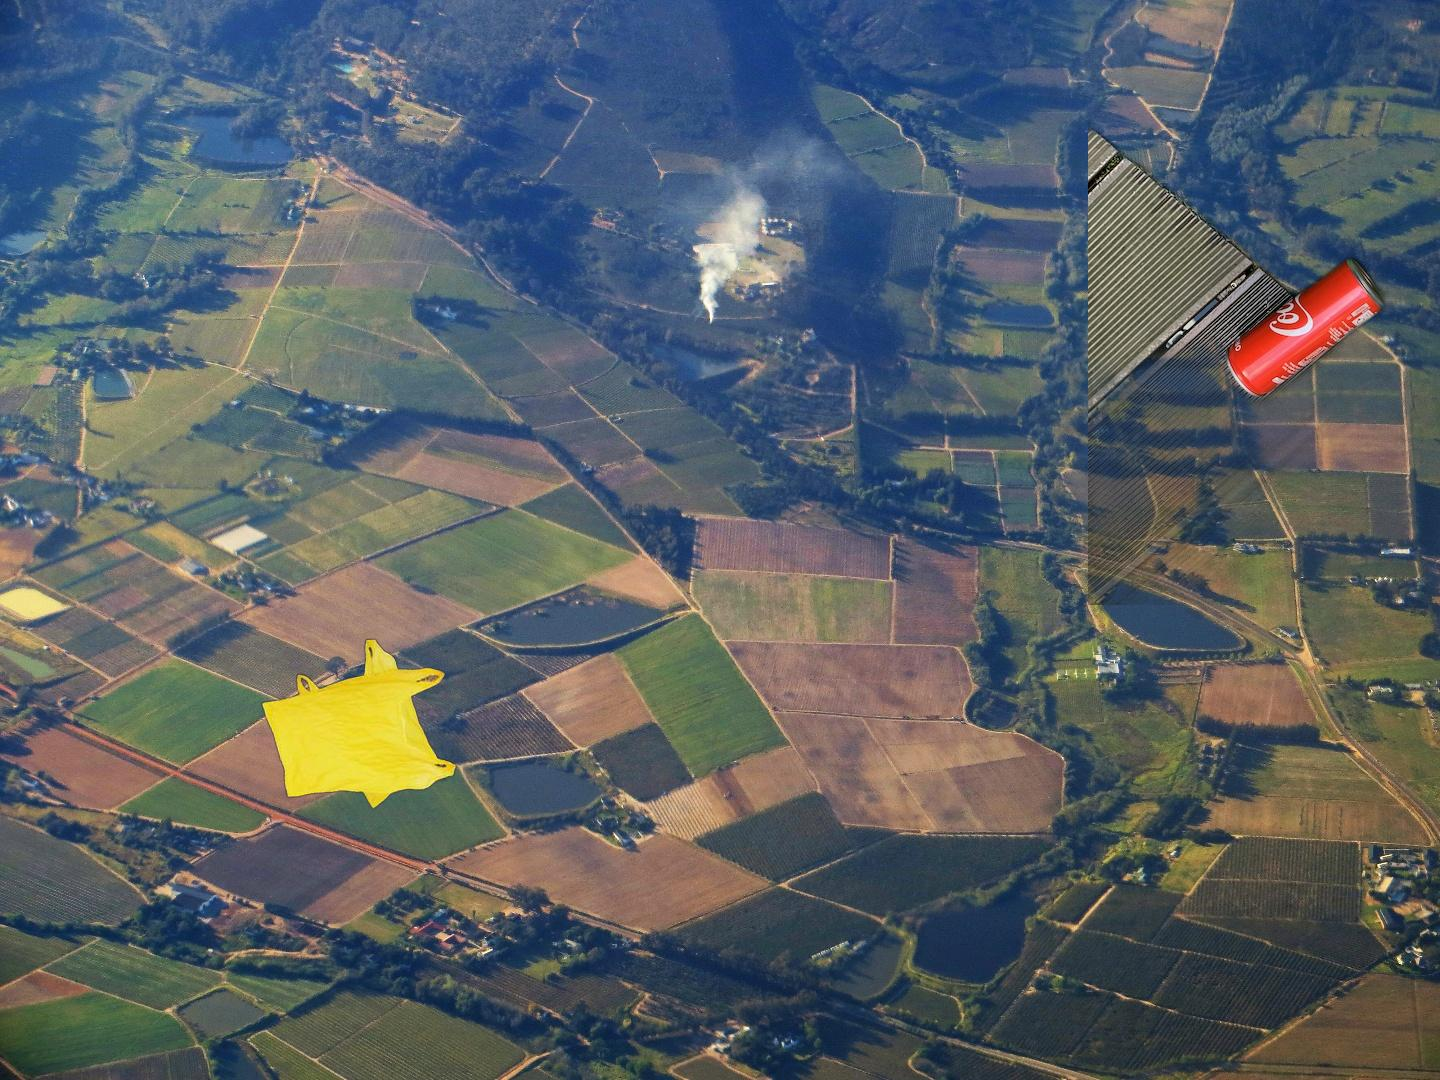metal-cans: (1089, 116, 1440, 605)
plastic-bag: (202, 550, 458, 812)
